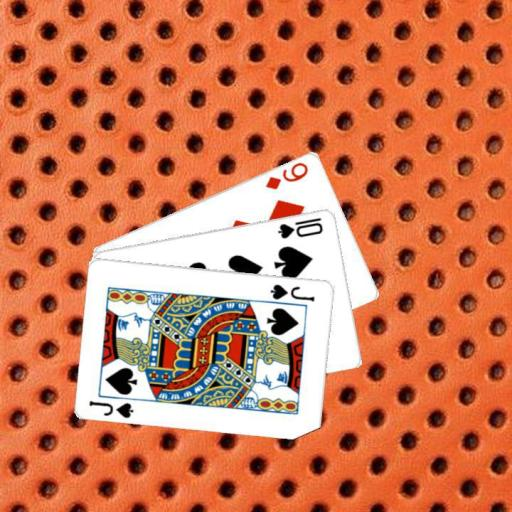10S: (274, 213, 325, 240)
9D: (262, 159, 310, 191)
JS: (268, 280, 317, 302), (86, 397, 135, 419)
